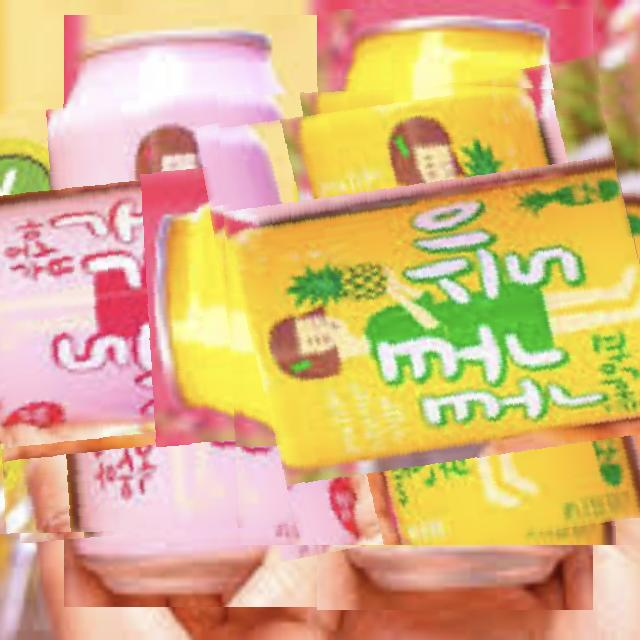recyclable: (216, 72, 640, 545), (0, 88, 419, 534)
